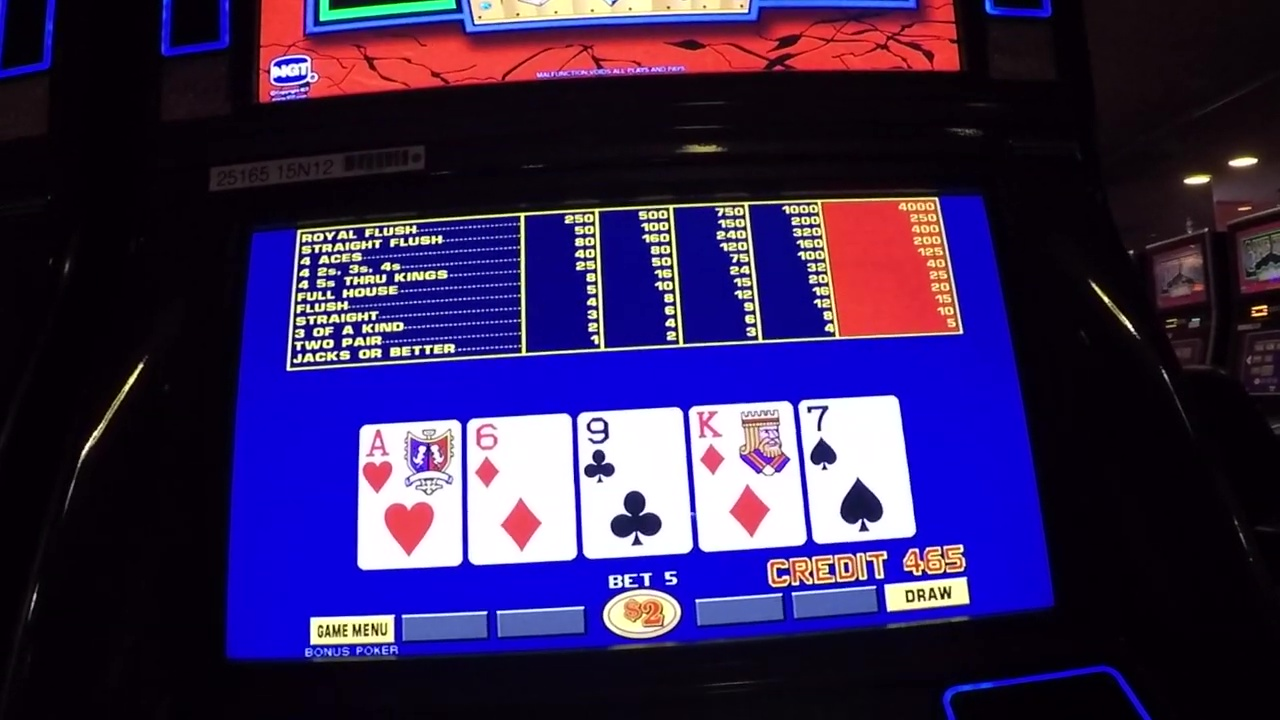C9: (582, 413, 682, 485)
D6: (469, 420, 571, 487)
DK: (693, 407, 793, 488)
HA: (362, 424, 461, 497)
S7: (806, 401, 898, 476)
